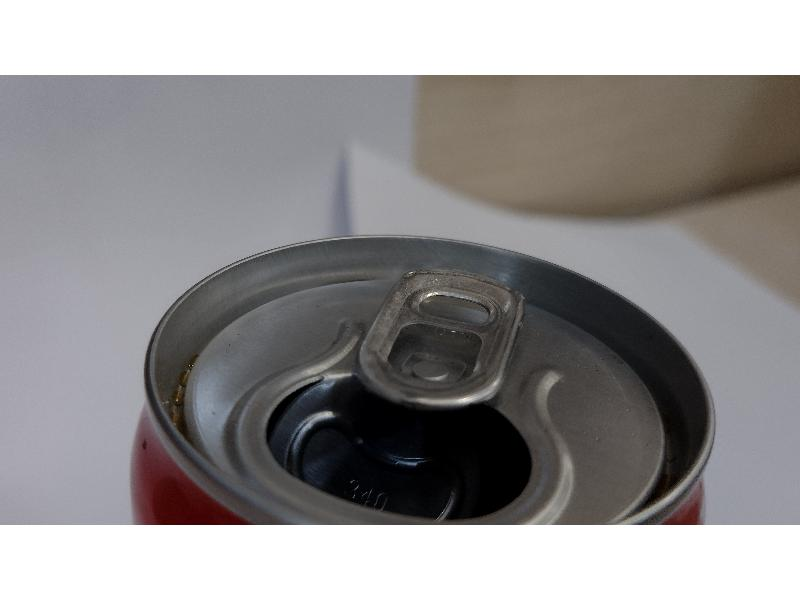can: (125, 216, 723, 523)
